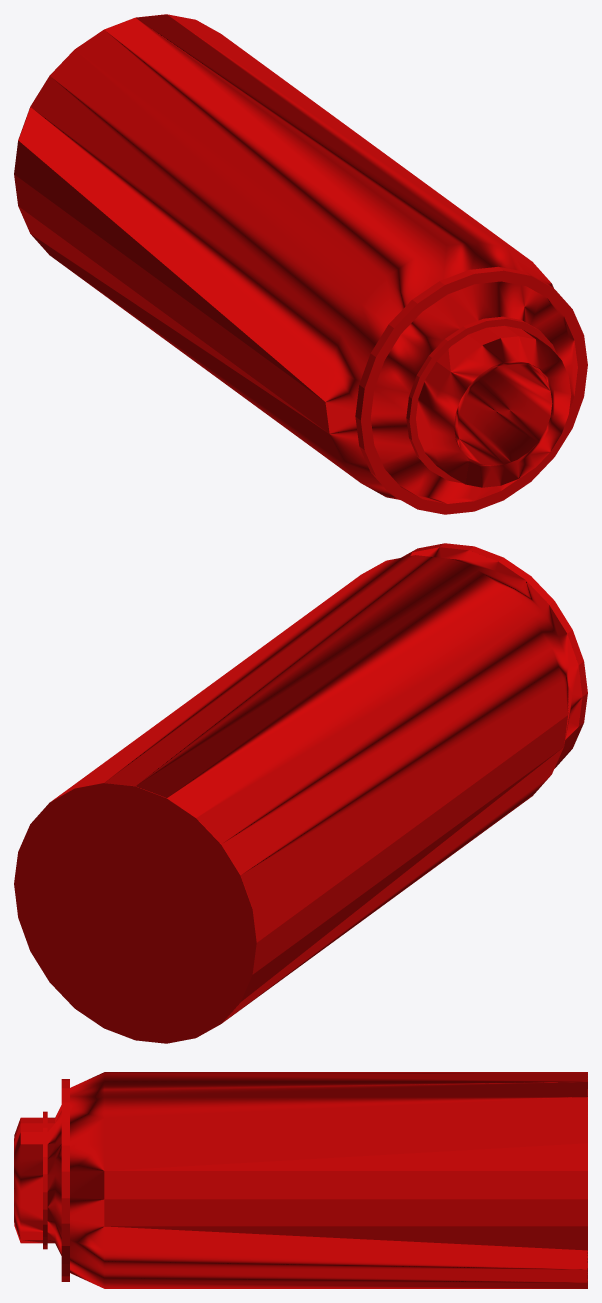
The model's file is model_align.obj.
3 views of the same model, one above another, from view 1: azimuth 30°, elevation 25°; view 2: azimuth 150°, elevation 25°; view 3: azimuth 270°, elevation 25° (orthographic). The views are drawn at different scales.
Bounding box in the file's own units: 0.0472 × 0.0472 × 0.1245.
